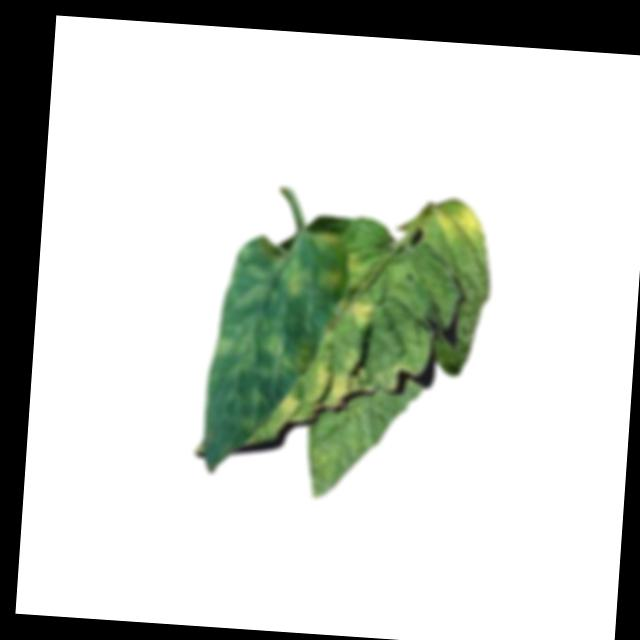Leaf_Mold: (211, 325, 315, 386), (227, 233, 274, 312), (315, 347, 365, 408), (435, 202, 485, 247), (281, 253, 315, 301), (345, 296, 385, 336), (322, 265, 347, 294), (319, 225, 349, 249), (279, 391, 303, 420)
